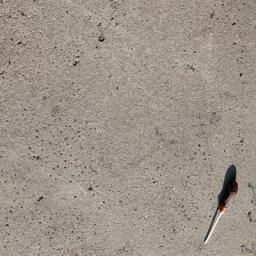FOD: (202, 163, 239, 247)
